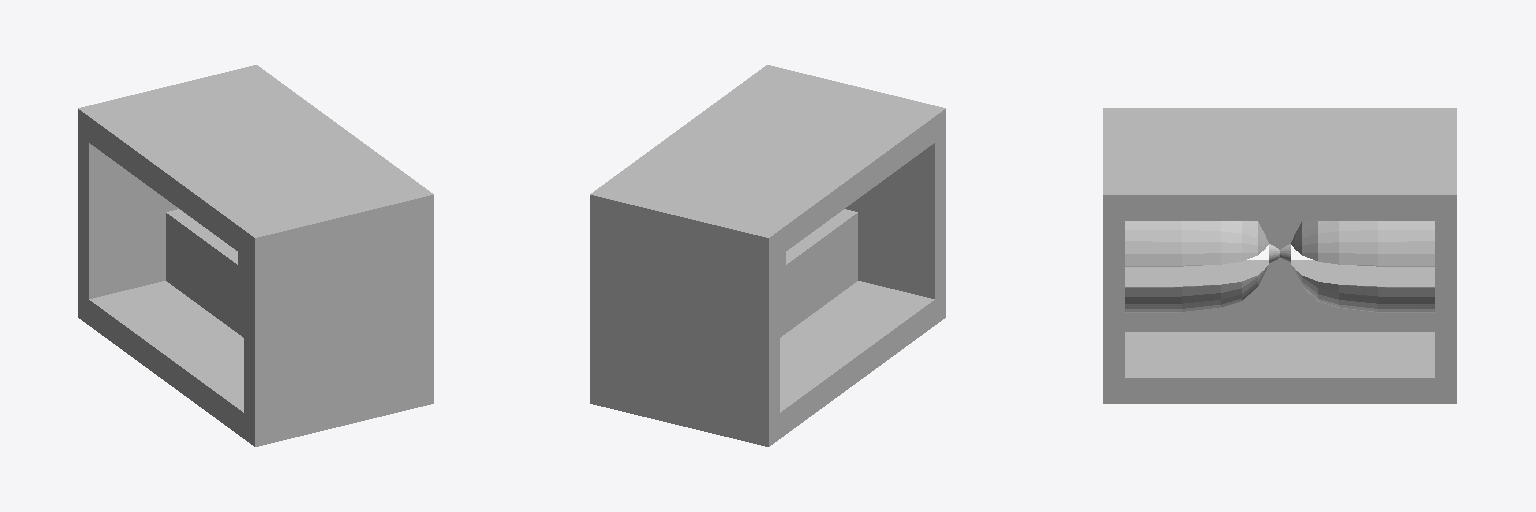
File: 250516 initial modeling v3.obj
The picture shows the model from 3 angles: view 1: azimuth 30°, elevation 25°; view 2: azimuth 150°, elevation 25°; view 3: azimuth 270°, elevation 25°; orthographic projection.
Parts seen in each view (by area): view 1: 메쉬 본체1; view 2: 메쉬 본체1; view 3: 메쉬 본체1.
Boxes of the visible parts, box(x1,y1,x2,y2) form: 메쉬 본체1: box(78, 65, 433, 446); 메쉬 본체1: box(590, 65, 945, 446); 메쉬 본체1: box(1103, 108, 1456, 403).
Bounding box in the file's own units: 2.33 × 2.6 × 4.